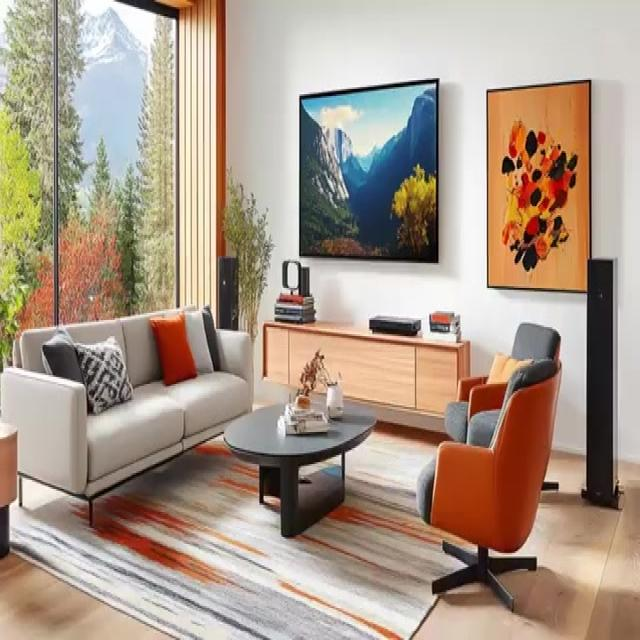obstacle: (0, 302, 254, 524), (415, 358, 562, 612), (262, 318, 470, 434), (222, 396, 377, 537)
